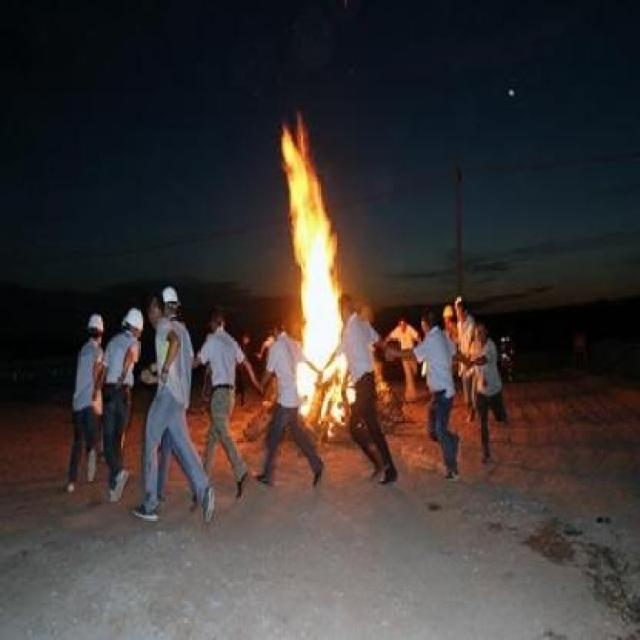Fire: (272, 106, 371, 438)
